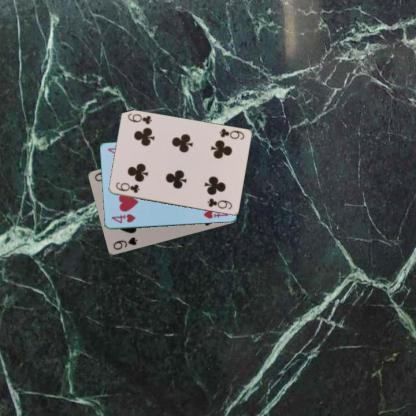4h: (108, 211, 136, 225)
6c: (216, 126, 246, 141), (113, 180, 142, 194)
9s: (110, 235, 139, 252)
